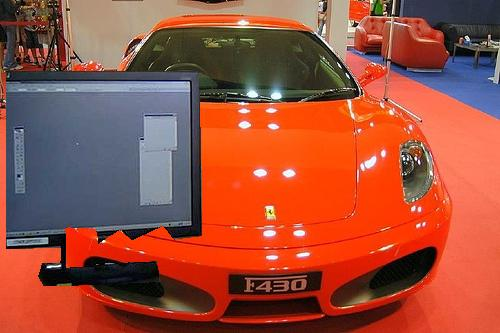tampered: (7, 72, 202, 286)
